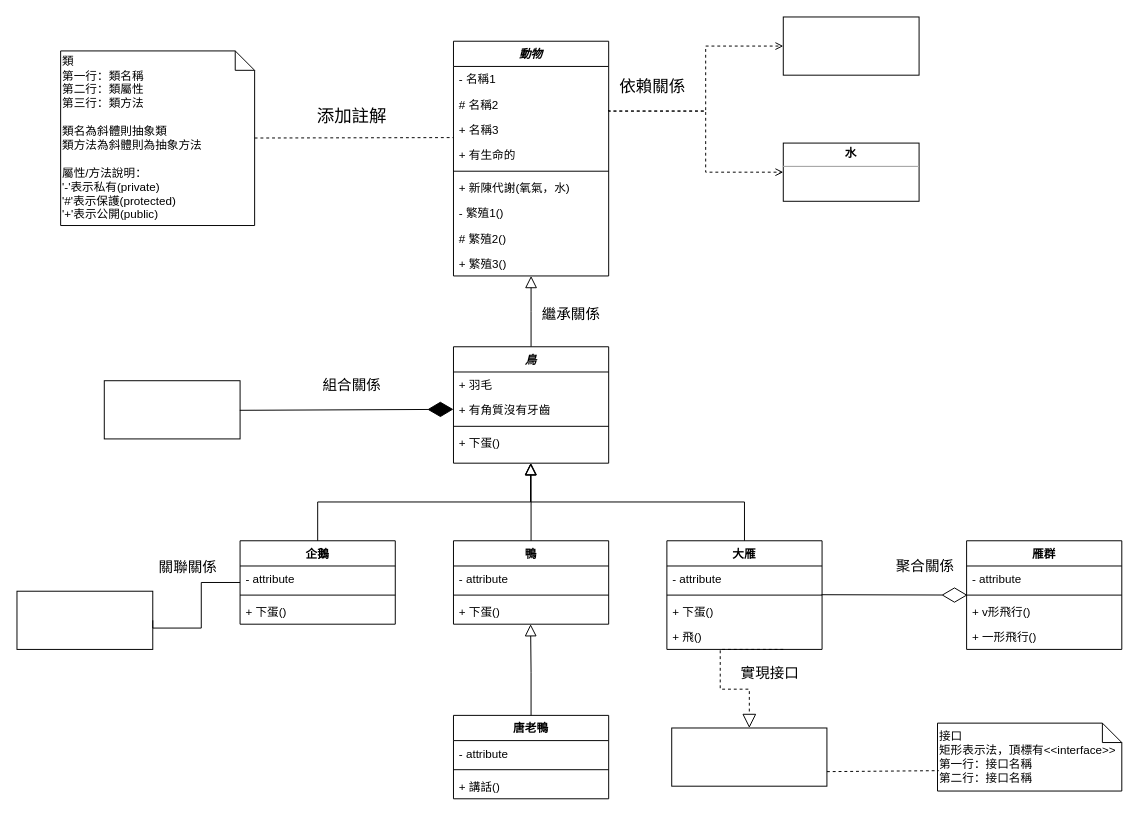
Some shapes in this 1139 by 819 pixel diagram are drawn without their labels. The shapes that lost their labels are listed below. From the top down, each one's centre as x and y in pixels, then its label:
point 850,45: 氧氣
point 171,409: 翅膀
point 84,619: 氣候
point 749,756: <<Interface>> 飛翔 + 飛()
